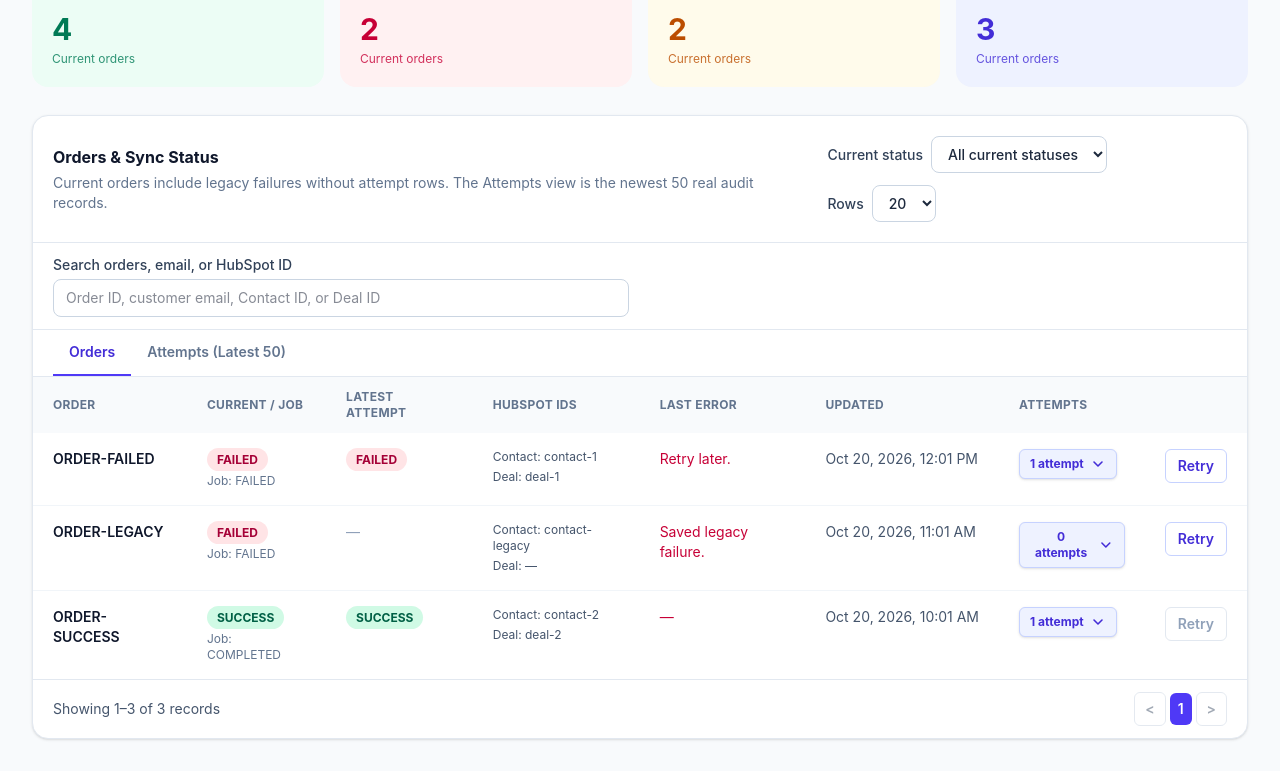
Test case: dashboard › keeps a retried failure visible with its stored diagnostics after a later successful attempt
(page scrolled)
Check: the text "ORDER-SUCCESS" is shown, box left=33, top=590, right=187, bottom=679
Click the button with aria-label "Show 1 attempt for ORDER-SUCCESS" at [1068, 622], box left=1019, top=607, right=1117, bottom=637
(page scrolled)
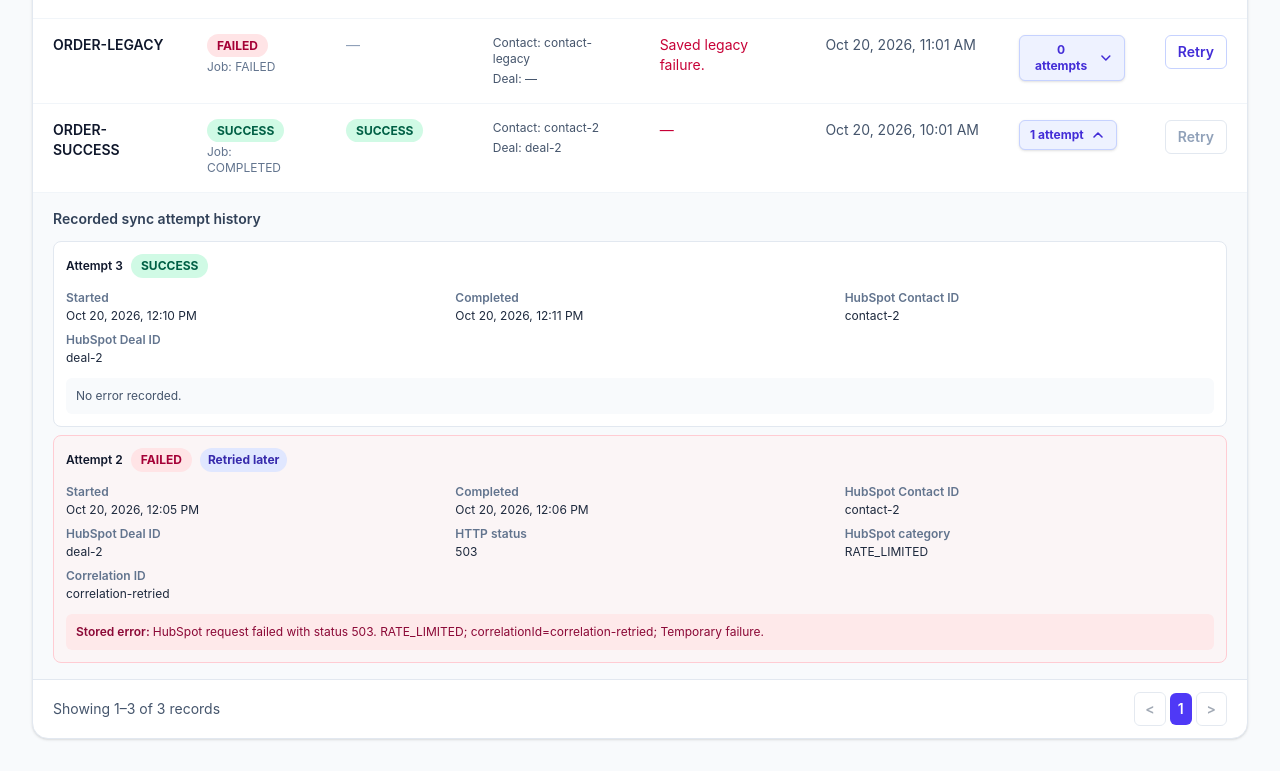
Check: the text "Stored error:" is shown, box left=76, top=624, right=153, bottom=639
Check: the text "Retried later" is shown, box left=200, top=448, right=288, bottom=472
Check: the text "HTTP status" is shown, box left=455, top=526, right=527, bottom=541
